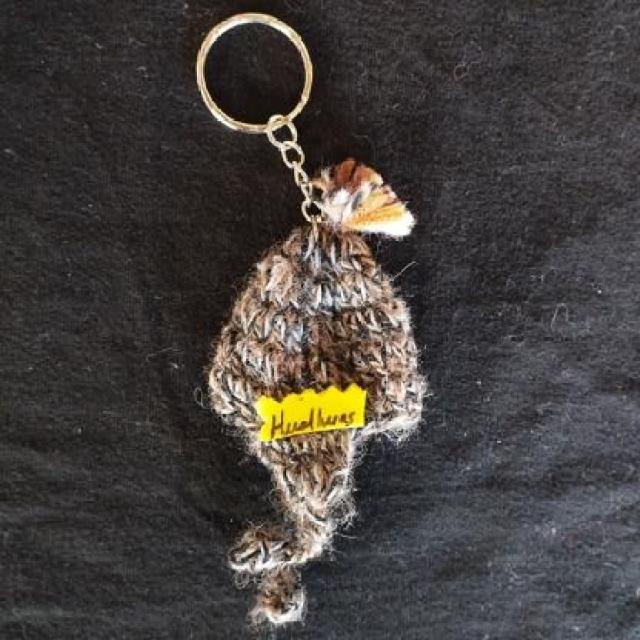Llavero: (203, 156, 432, 630)
